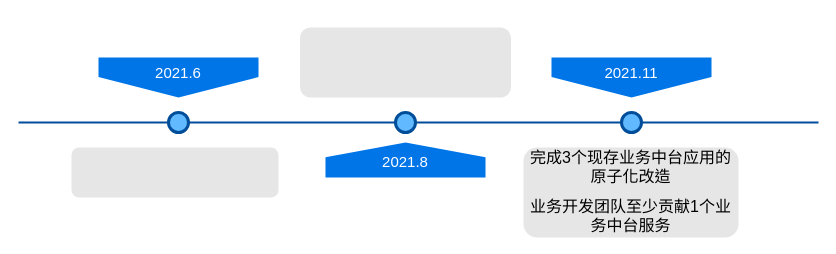
Image size: 836x254. Some labels were removed from this diagram. The shapes that lost their labels are listed below. From the top down, each one's box as (x1, y1, x2, y2) in pixels, then its label:
(300, 27, 510, 97): 完成业务中台共建模式方案评审
(71, 147, 278, 197): 完成 “ 聚合层 + 原子层 ” 的业务中台建设方案评审
